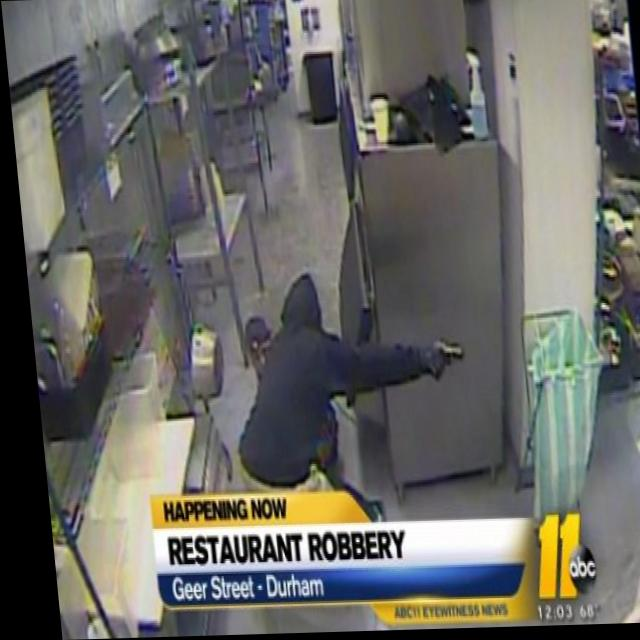handgun: (415, 330, 462, 377)
